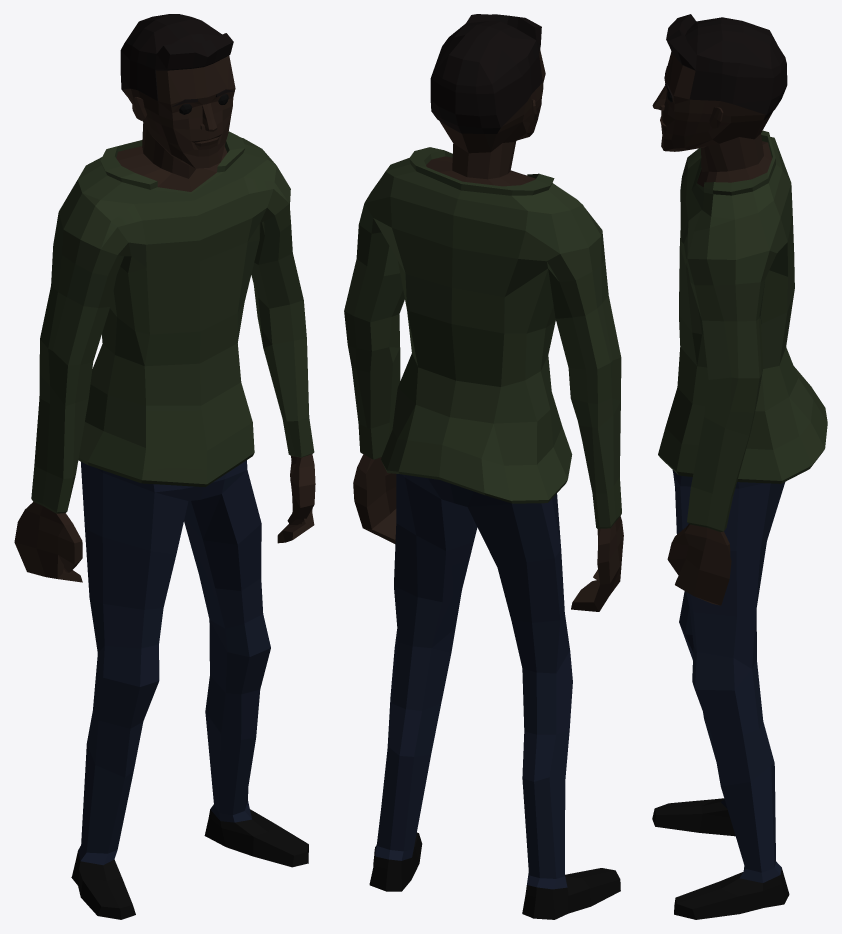
3 renders of one model, left to right at view 1: azimuth 30°, elevation 25°; view 2: azimuth 150°, elevation 25°; view 3: azimuth 270°, elevation 25°, orthographic. The views are drawn at different scales.
Visible parts, largest first — view 1: BaseHuman_static; view 2: BaseHuman_static; view 3: BaseHuman_static.
Boxes of the visible parts, x1,y1,x2,y2 form: BaseHuman_static: [14, 14, 315, 919]; BaseHuman_static: [344, 14, 623, 919]; BaseHuman_static: [652, 14, 827, 919].
Bounding box in the file's own units: 1.61 × 4.82 × 0.9116.
